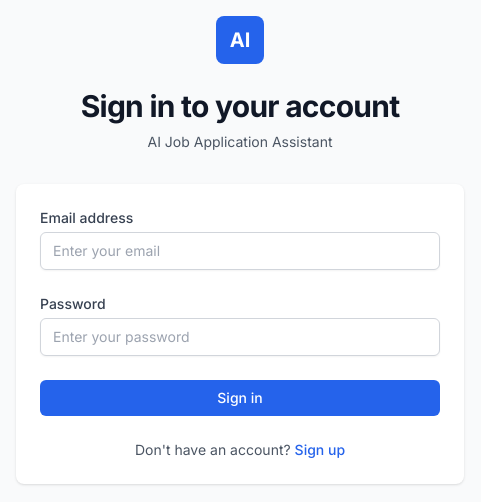
Login › shows loading state during submission
In the field labelled "Email address": (240, 251) [40,232,440,270], type "test@example.com"
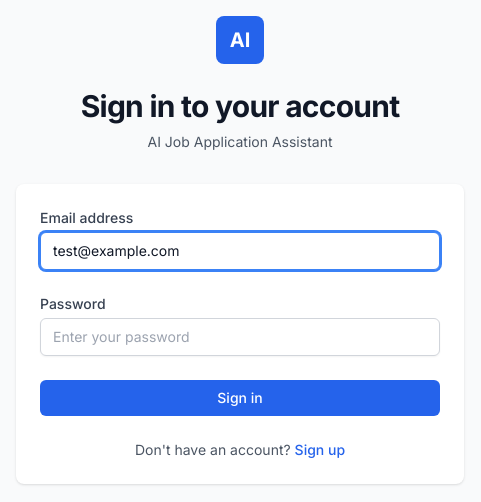
In the password field labelled "Password": (240, 337) [40,318,440,356], type "password123"
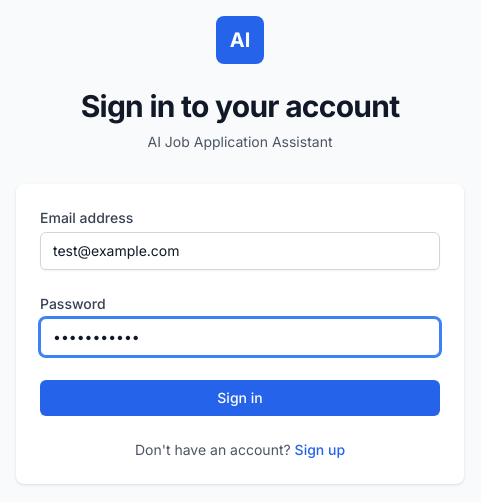
Click the button "Sign in": (240, 398) [40,380,440,416]
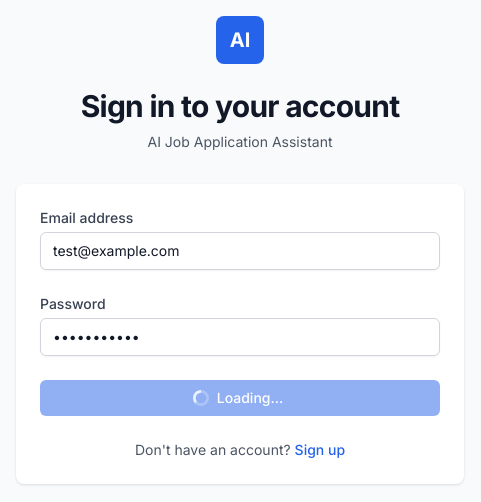
Check: the button named "sign in" is disabled, box [40,380,440,416]
